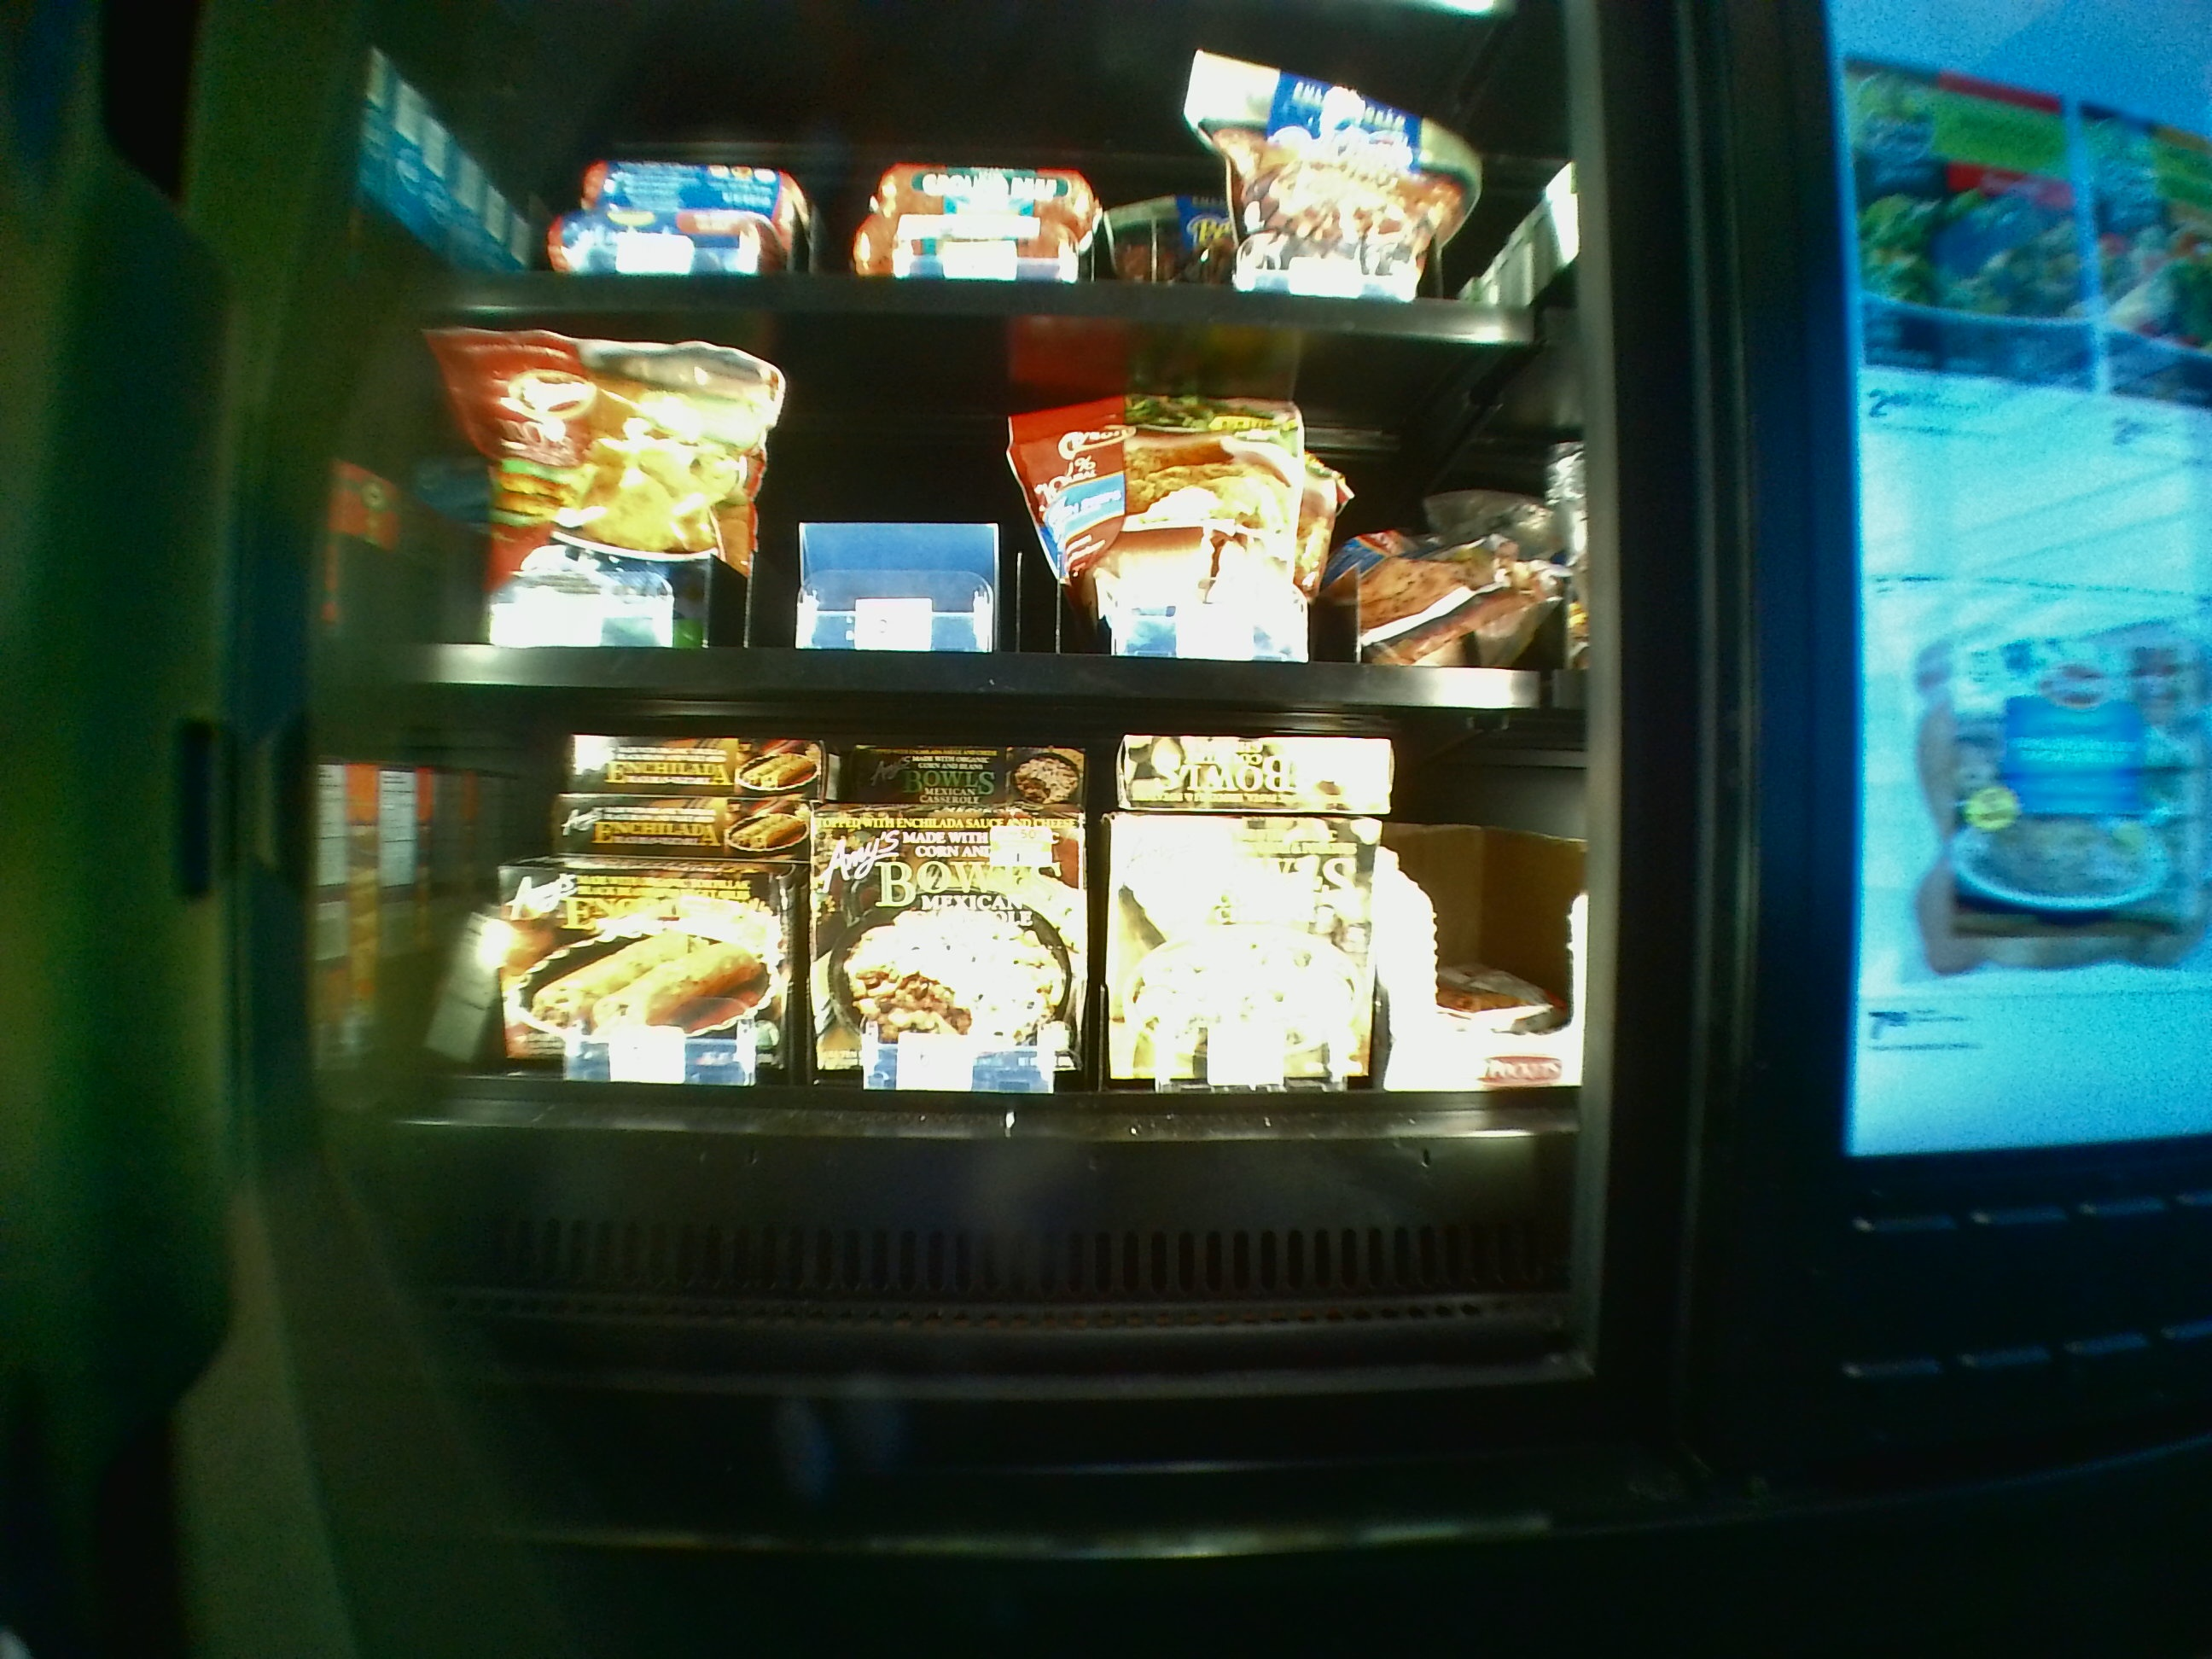shelf: (374, 727, 1575, 1349), (383, 315, 1561, 716)
